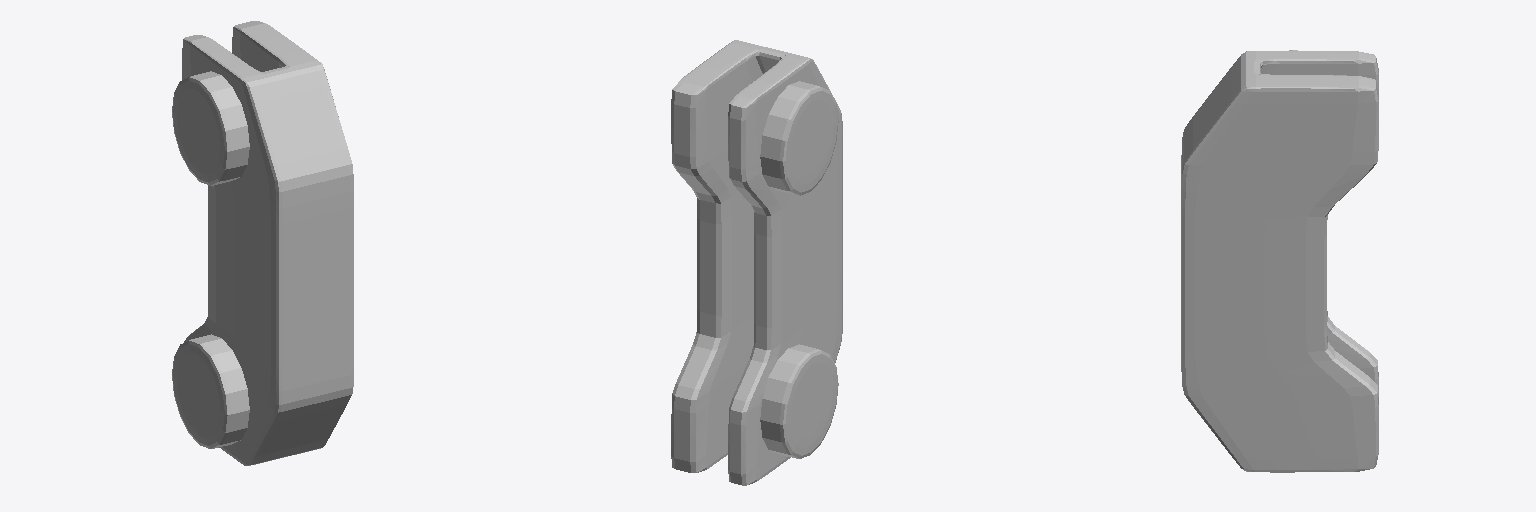
Rendered from SuspensionRT_Aston_Martin_DB9.obj.
3 renders of one model, left to right at view 1: azimuth 30°, elevation 25°; view 2: azimuth 150°, elevation 25°; view 3: azimuth 270°, elevation 25°, orthographic.
Visible parts, largest first — view 1: Object_#5.001_Object_#5.002; view 2: Object_#5.001_Object_#5.002; view 3: Object_#5.001_Object_#5.002.
Part boxes in pixels (x1,y1,x2,y2): Object_#5.001_Object_#5.002: (172,21,353,465); Object_#5.001_Object_#5.002: (671,40,842,485); Object_#5.001_Object_#5.002: (1181,50,1378,472).
Size of the model in its own units: 0.0629 by 0.2286 by 0.1059.